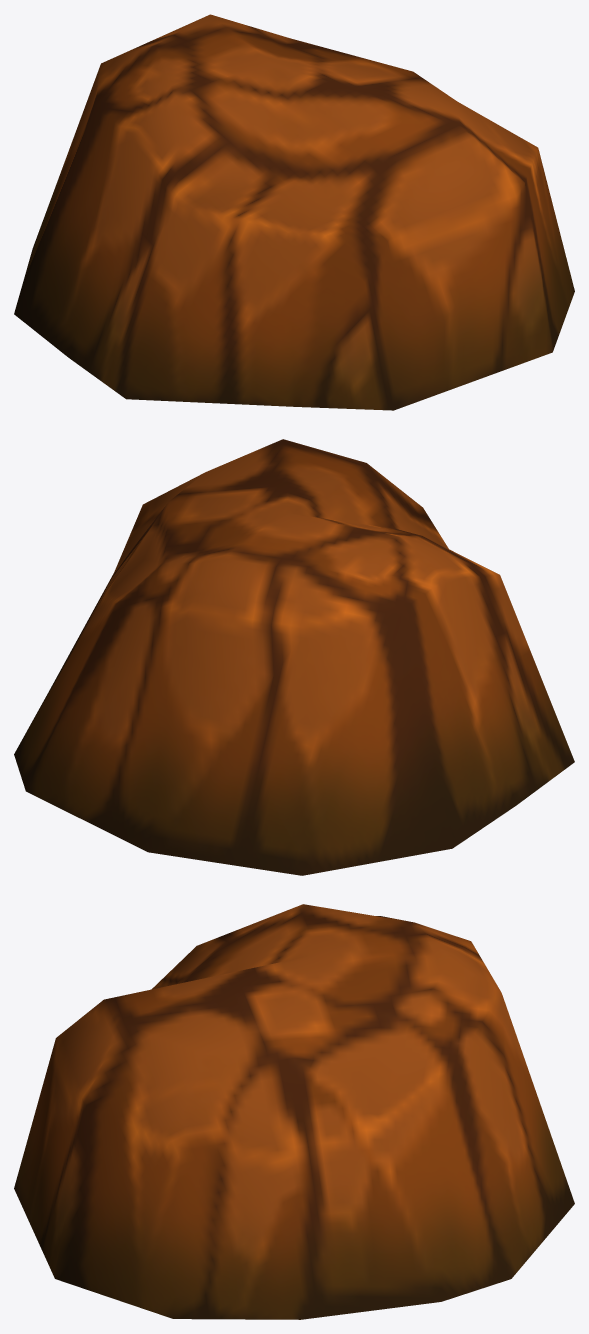
File: Rock_03.FBX
The picture shows the model from 3 angles, top to bottom: view 1: azimuth 30°, elevation 25°; view 2: azimuth 150°, elevation 25°; view 3: azimuth 270°, elevation 25°; orthographic projection. The views are drawn at different scales.
Visible parts, largest first — view 1: Rock_03; view 2: Rock_03; view 3: Rock_03.
Boxes of the visible parts, box(x1,y1,x2,y2) form: Rock_03: box(14, 14, 574, 410); Rock_03: box(14, 439, 574, 875); Rock_03: box(14, 904, 574, 1319).
Bounding box in the file's own units: 98.76 × 49.37 × 103.
